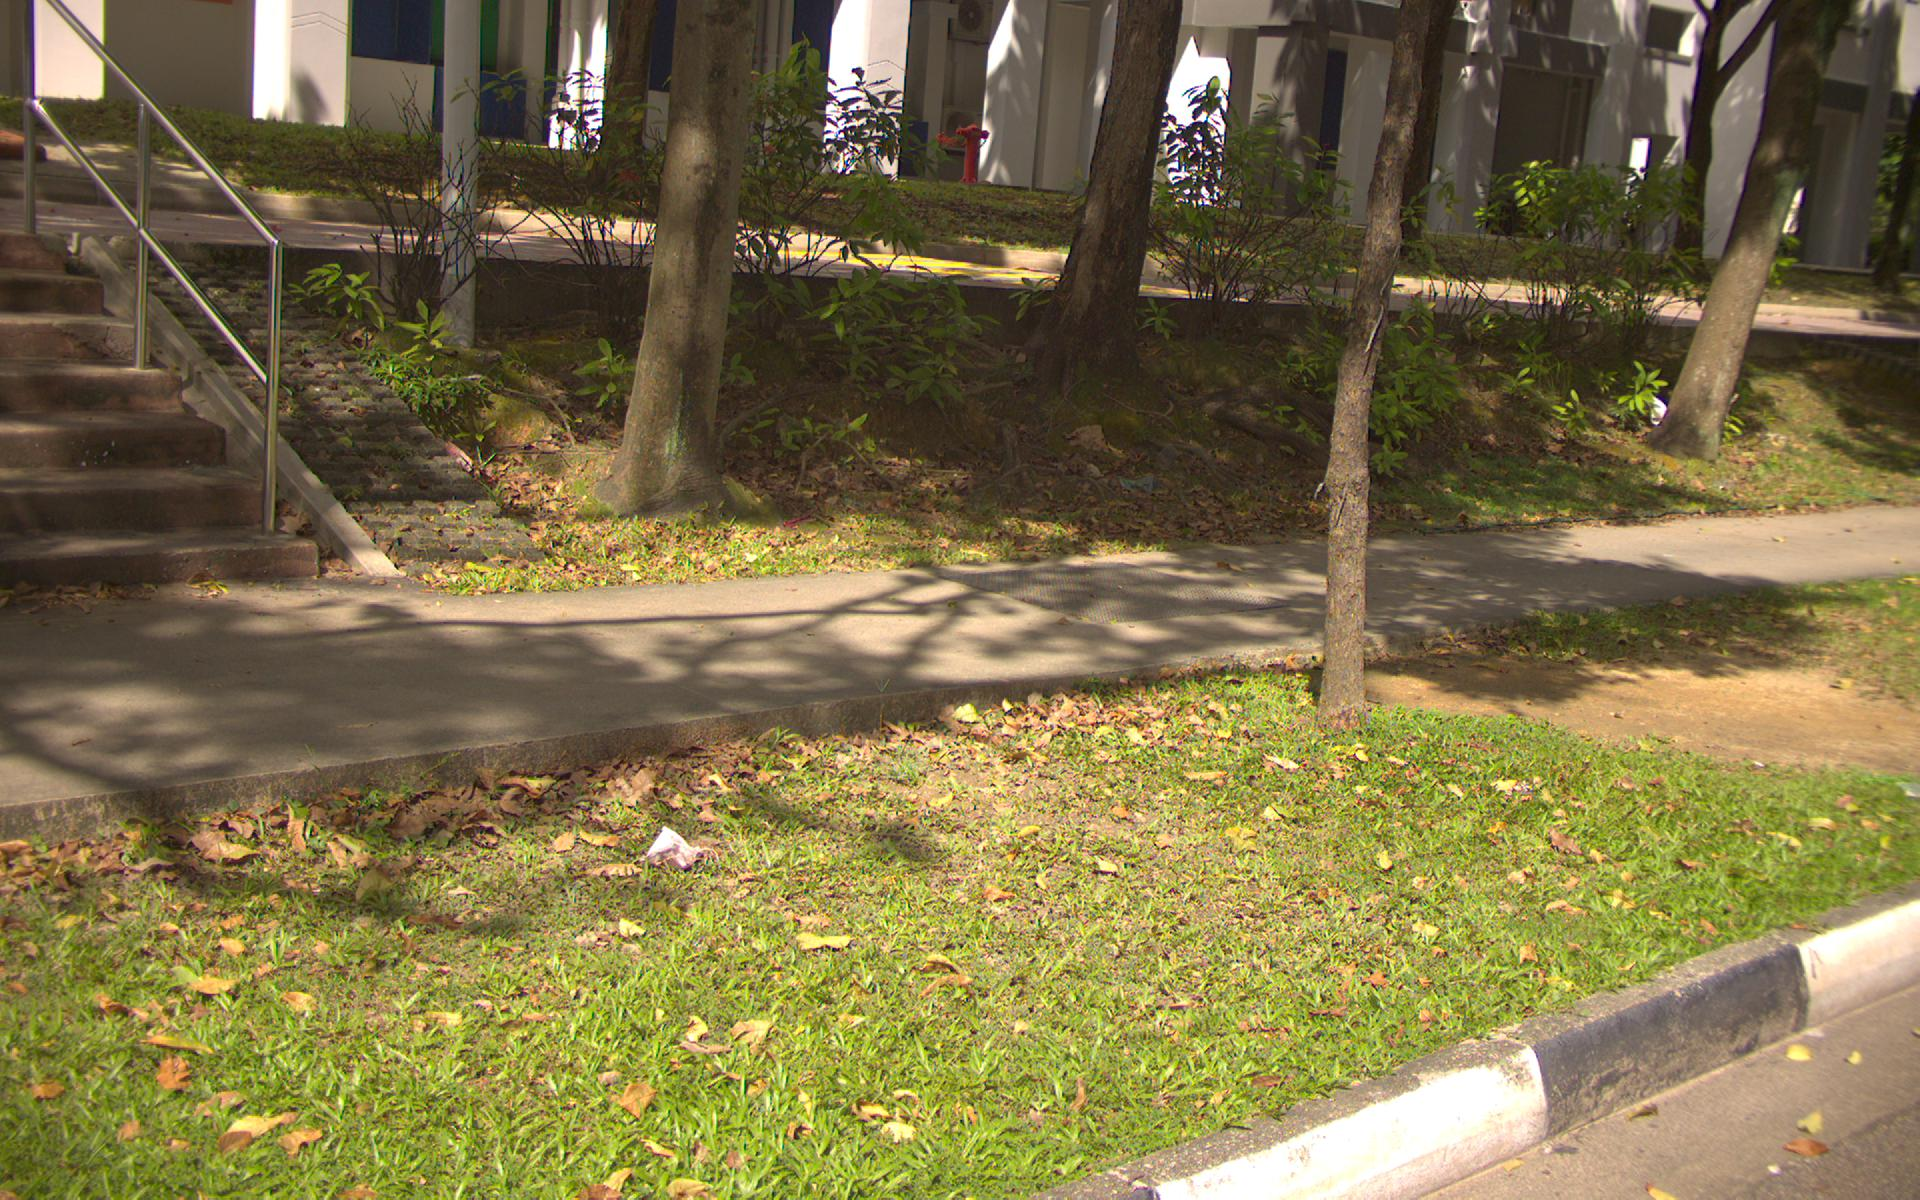pathway_low: (15, 608, 847, 711)
road_turf_low: (4, 854, 1160, 1164)
